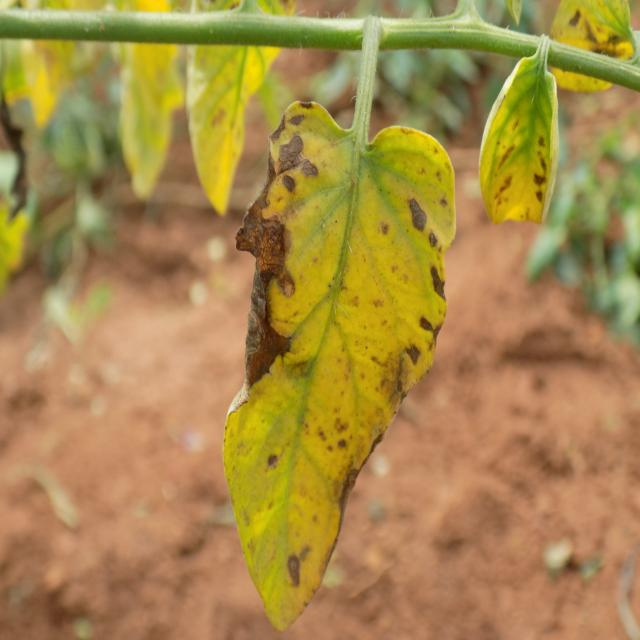tomato_early blight: (224, 96, 457, 628), (185, 0, 293, 219), (482, 45, 564, 235), (554, 0, 640, 95)
